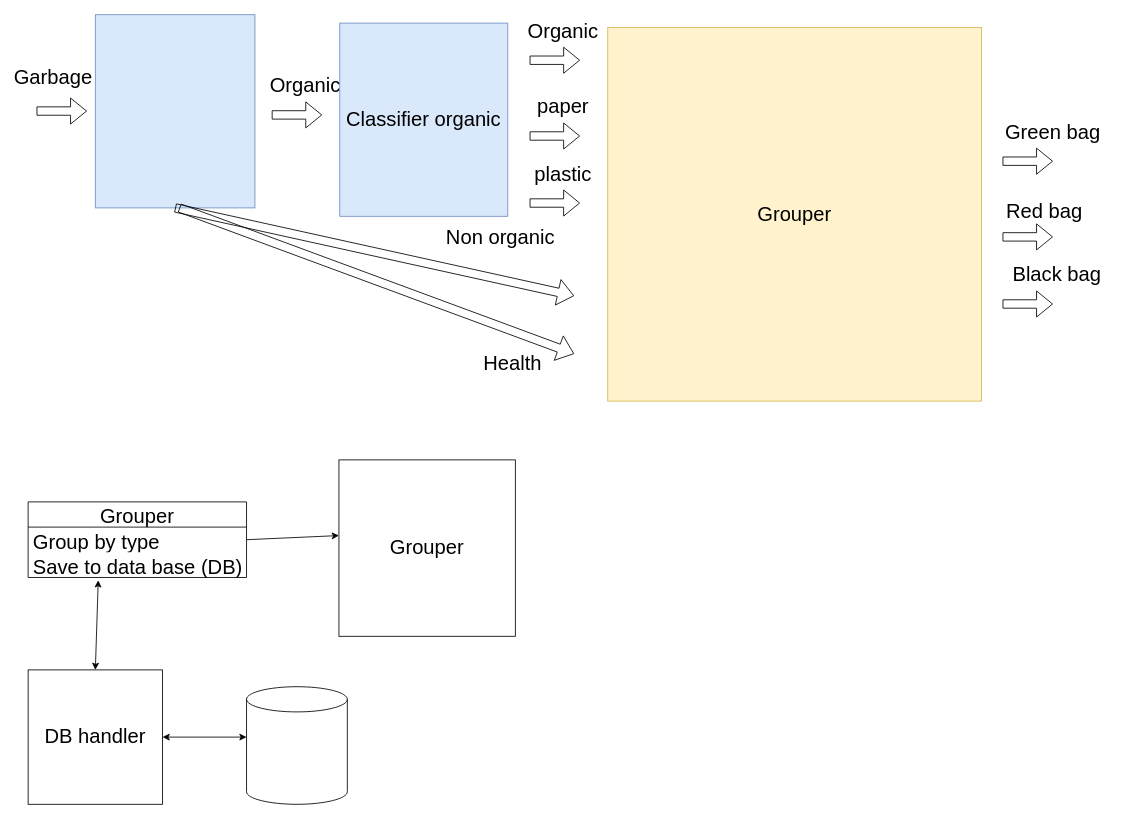
The diagram is 1126 pixels wide and 819 high, and some of its shapes have lost their labels. Each missing label, with the centre of its shape:
"Classifier" goes at (174,111).
"DB" goes at (296,745).
